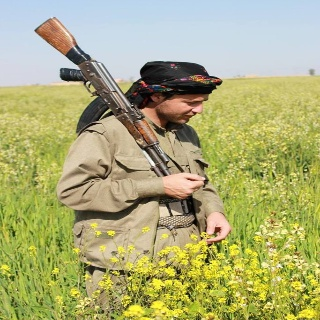rifle: (33, 16, 174, 180)
